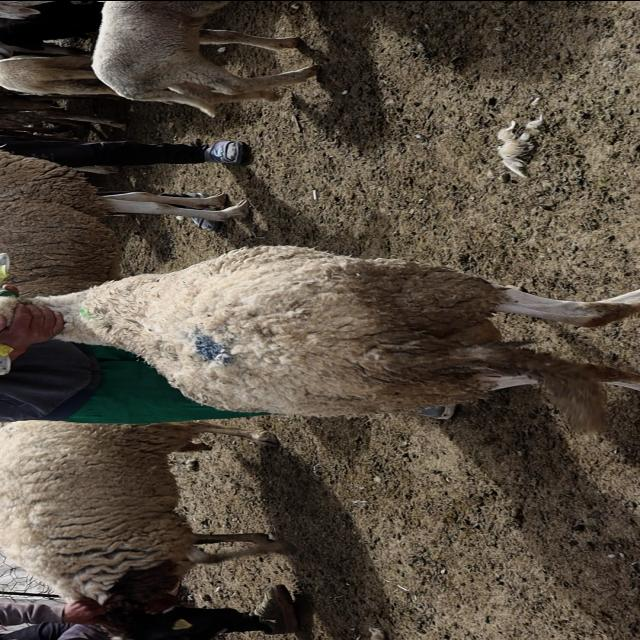Score_3: (0, 245, 639, 432)
